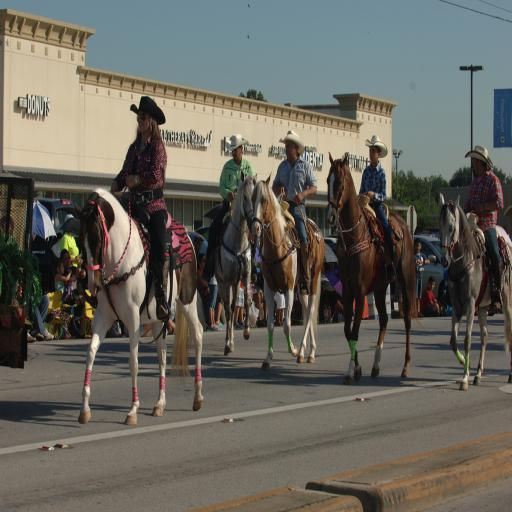horse: (71, 186, 204, 426), (326, 152, 422, 388), (250, 174, 324, 374), (440, 192, 511, 394), (208, 168, 259, 359)
